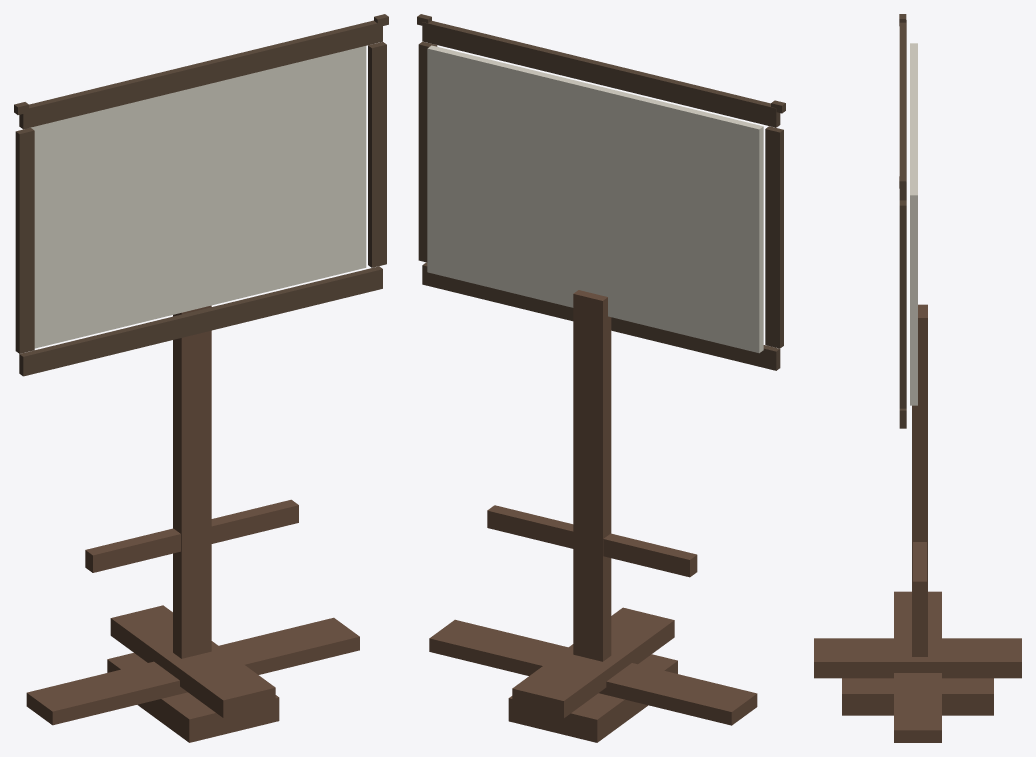
3 views of the same model, side by side, from view 1: azimuth 30°, elevation 25°; view 2: azimuth 150°, elevation 25°; view 3: azimuth 270°, elevation 25° (orthographic). The views are drawn at different scales.
Visible parts, largest first — view 1: information-back, information-post, notice-cross-foot, notice-bottom, notice-top-outer, notice-longitudinal-foot, notice-mast-crossbar, notice-left, notice-right, information-base, notice-top-inner; view 2: information-back, information-post, notice-cross-foot, notice-top-outer, notice-longitudinal-foot, notice-bottom, notice-mast-crossbar, notice-left, information-base, notice-top-inner, notice-right; view 3: notice-longitudinal-foot, notice-cross-foot, information-post, information-base, information-back, notice-right, notice-top-outer, notice-mast-crossbar.
Part boxes in pixels (box(x1,y1,x2,y2)): information-back: box(27, 46, 366, 348); information-post: box(173, 305, 211, 658); notice-cross-foot: box(26, 617, 359, 725); notice-bottom: box(19, 266, 382, 376); notice-top-outer: box(19, 20, 382, 129); notice-longitudinal-foot: box(110, 605, 275, 717); notice-mast-crossbar: box(85, 499, 298, 572); notice-left: box(15, 128, 34, 353); notice-right: box(368, 42, 386, 267); information-base: box(107, 653, 279, 742); notice-top-inner: box(34, 32, 371, 123); information-back: box(427, 45, 763, 353); information-post: box(573, 290, 611, 661); notice-cross-foot: box(429, 619, 757, 725); notice-top-outer: box(422, 21, 780, 127); notice-longitudinal-foot: box(512, 607, 674, 718); notice-bottom: box(422, 262, 780, 370); notice-mast-crossbar: box(487, 505, 697, 577); notice-left: box(765, 126, 783, 348); information-base: box(508, 654, 677, 742); notice-top-inner: box(433, 33, 765, 121); notice-right: box(418, 41, 437, 262); notice-longitudinal-foot: box(814, 638, 1021, 678); notice-cross-foot: box(894, 591, 941, 742); information-post: box(912, 304, 927, 656); information-base: box(842, 678, 993, 715); information-back: box(910, 43, 917, 405); notice-right: box(899, 200, 906, 408); notice-top-outer: box(899, 20, 906, 200); notice-mast-crossbar: box(913, 542, 926, 597).
Size of the model in its own units: 0.99 by 1.65 by 0.52.
